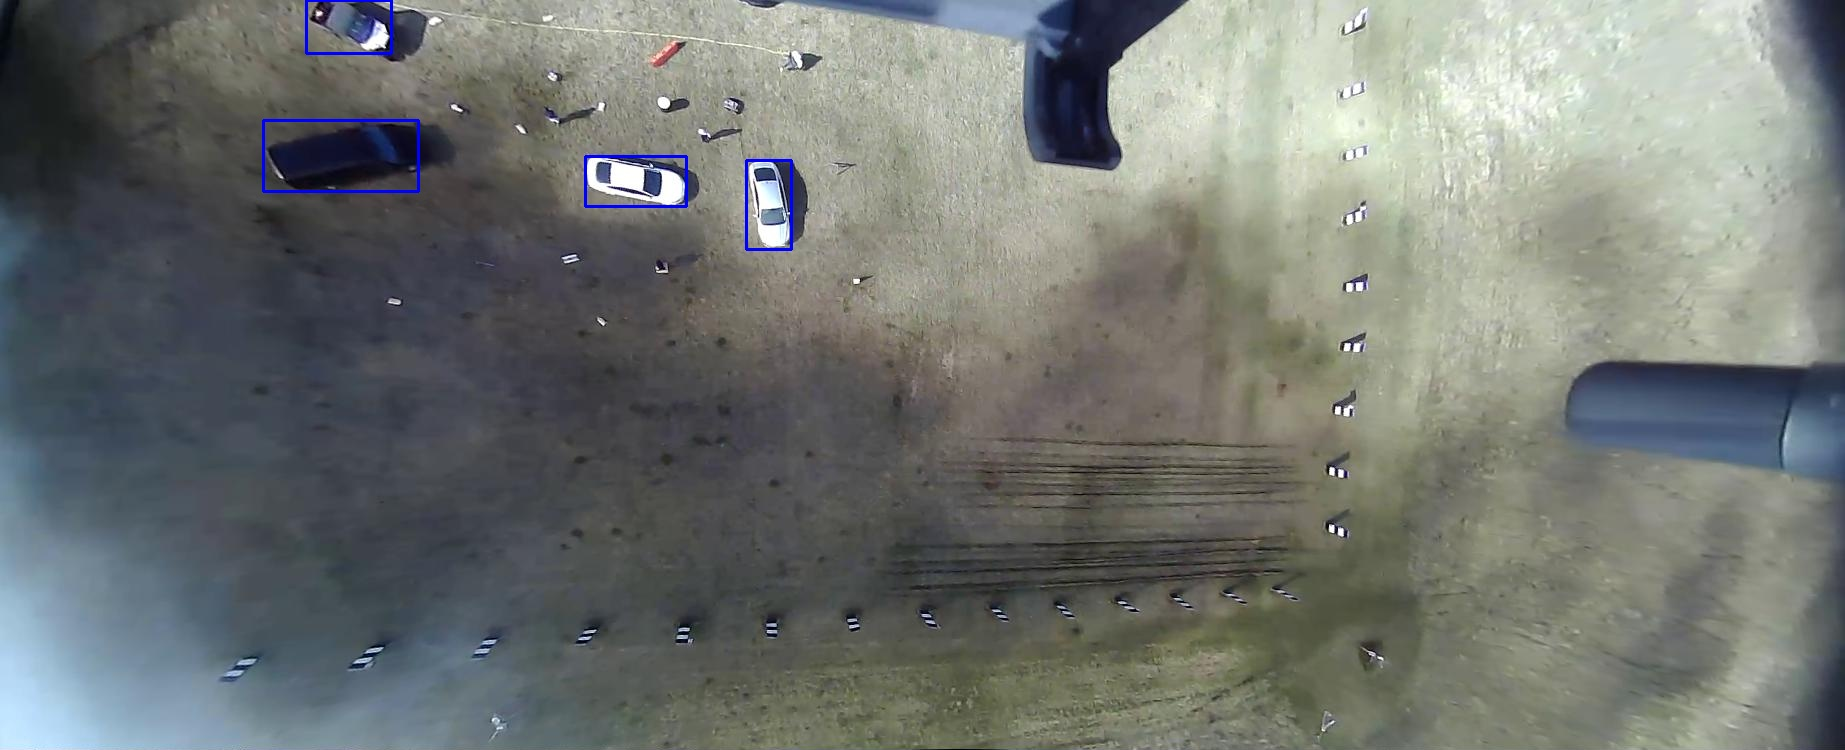vehicle: (120, 263, 191, 418), (156, 585, 206, 686), (0, 306, 53, 391), (160, 746, 249, 750)
